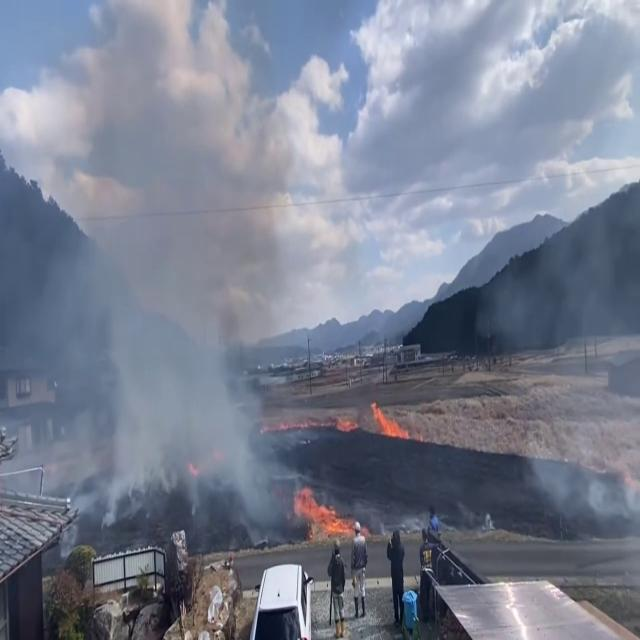Fire: (293, 485, 363, 542)
Smoke: (1, 62, 308, 534), (494, 204, 640, 533)
